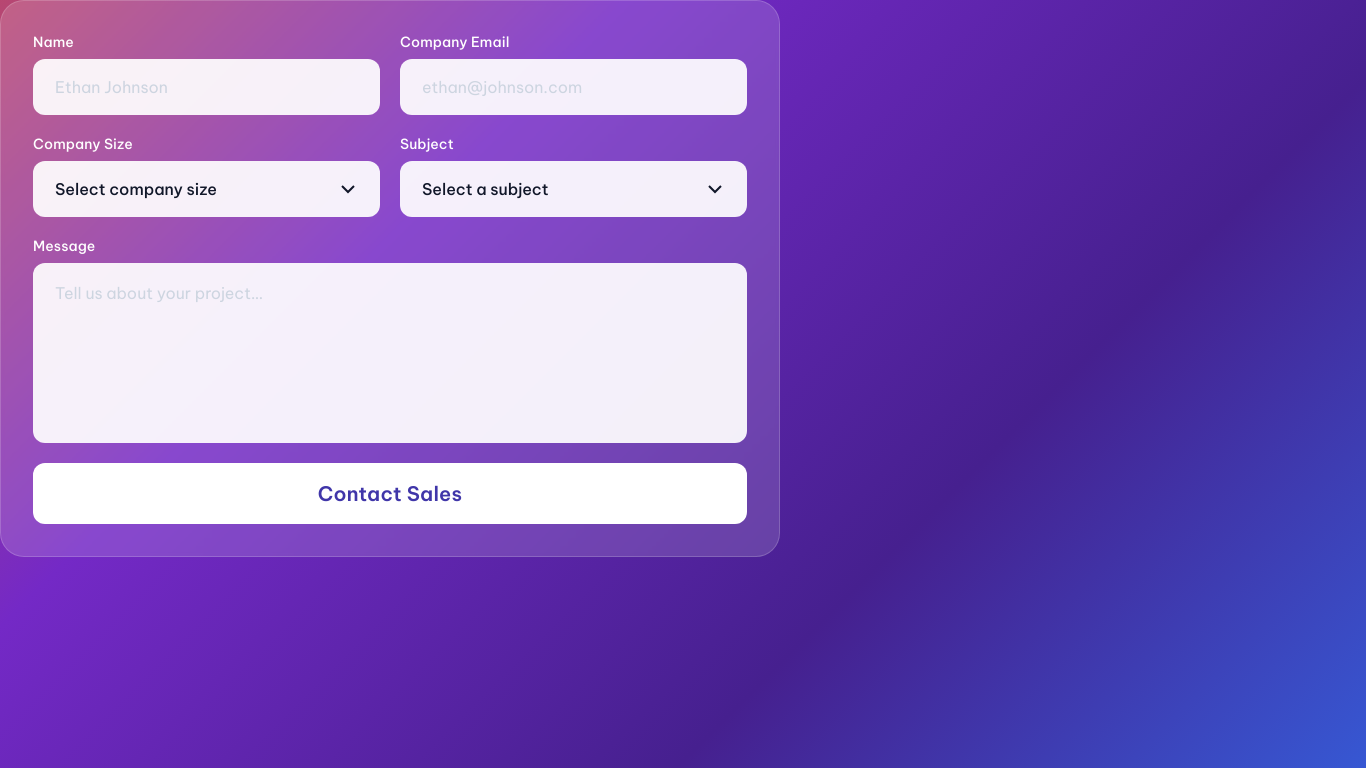
Test: ContactForm › validate function (unit coverage) › name must be at least 2 characters
Step 1. Type "A" into the field labelled "Name" → (206, 87), box x1=33 y1=59 x2=380 y2=115
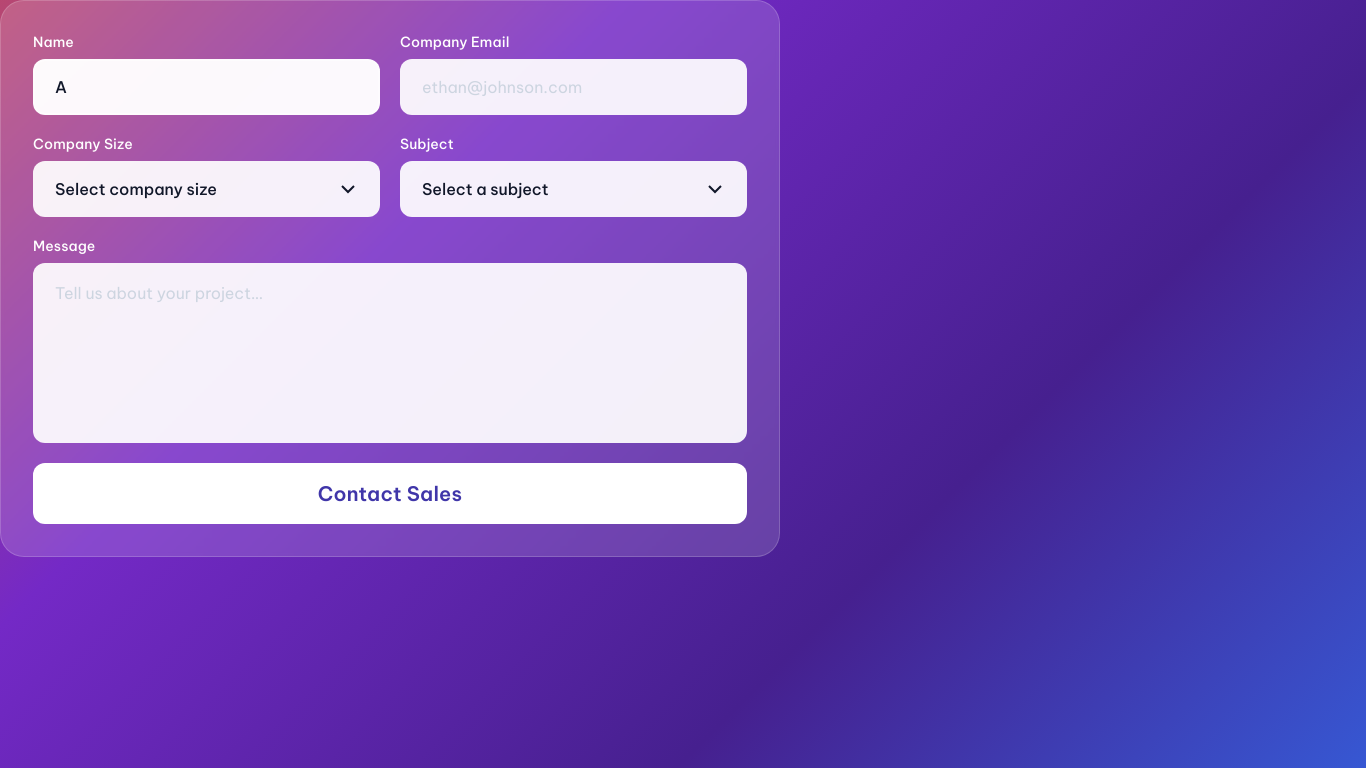
Step 2. Press Tab
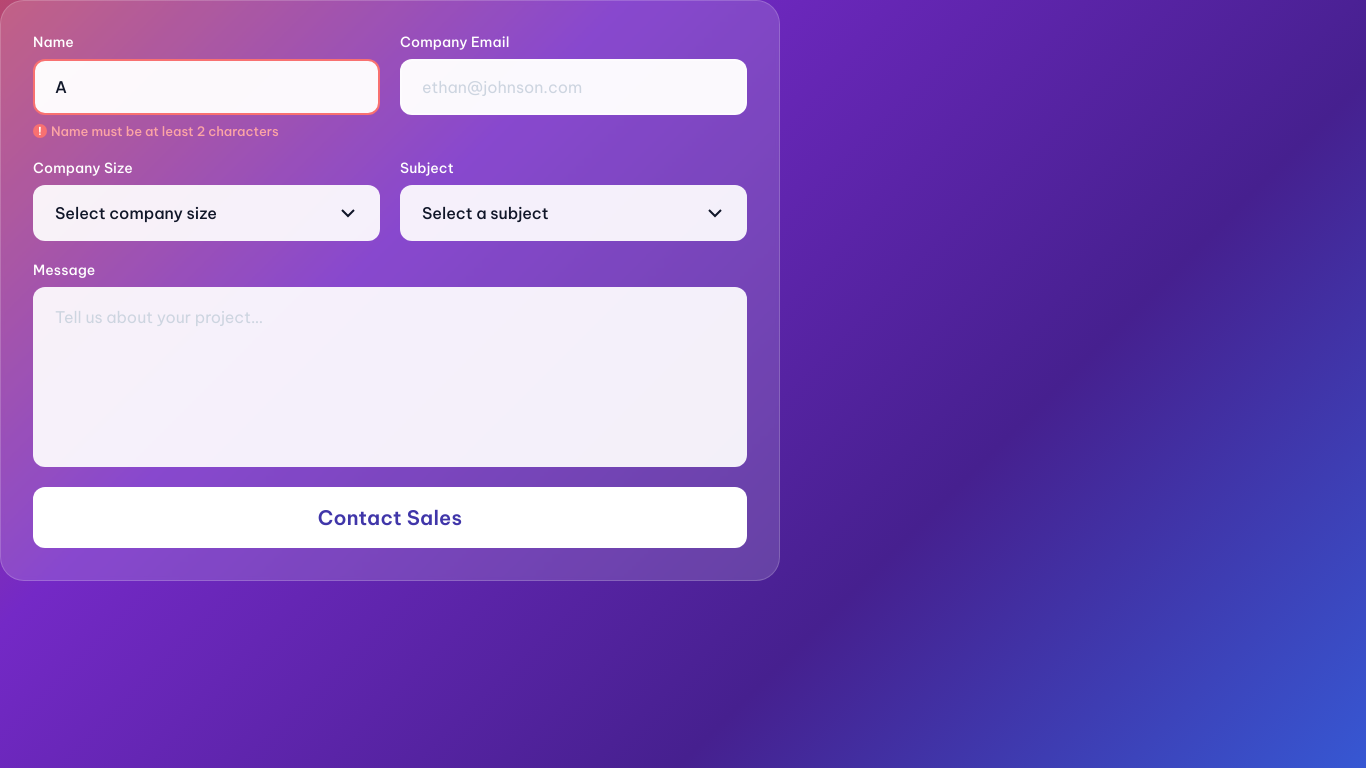
expect the message reads "Name must be at least 2 characters": met, box x1=51 y1=123 x2=279 y2=139
